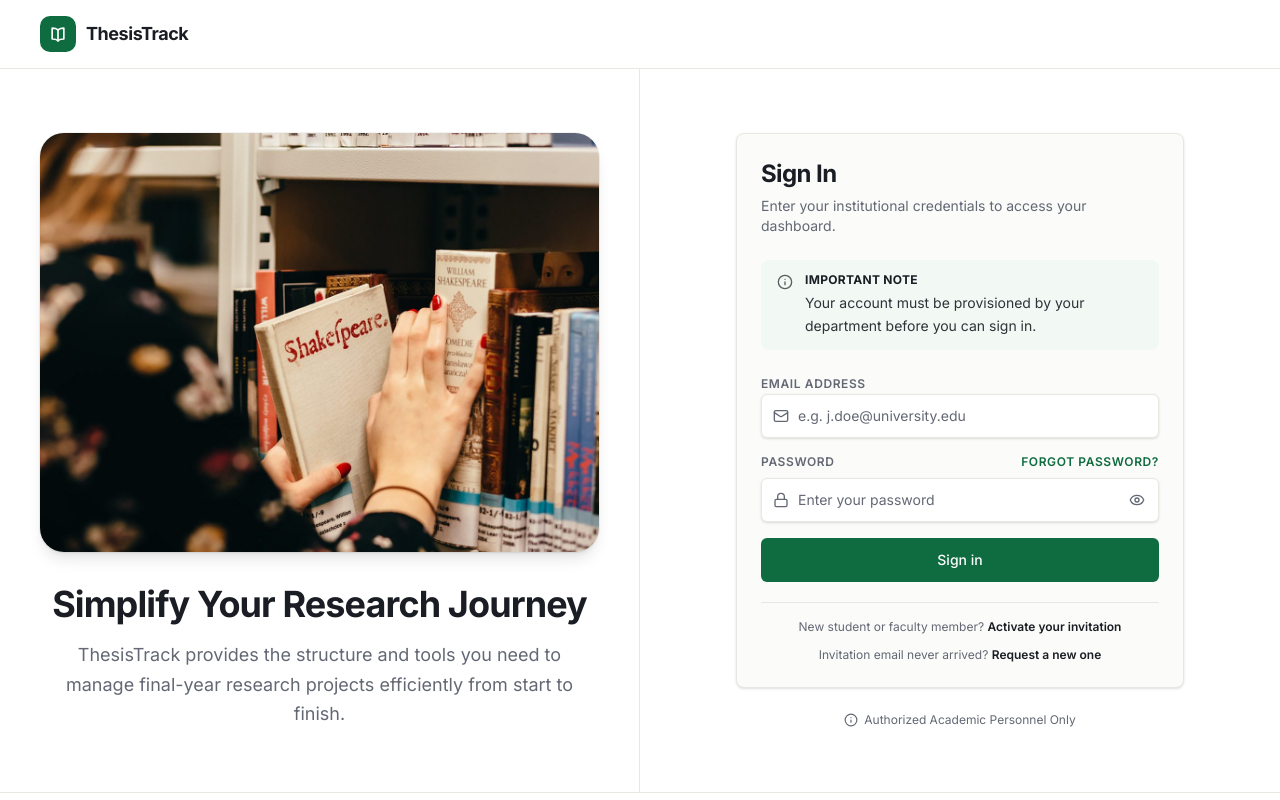
Scenario: login (plan 4.1) › renders the danger callout inline on 401 without redirecting
The width and height of the screenshot is (1280, 800).
Type "benjamin.thompson@university.edu" into the field labelled "Email address". click: (960, 416)
box: [761, 394, 1159, 438]
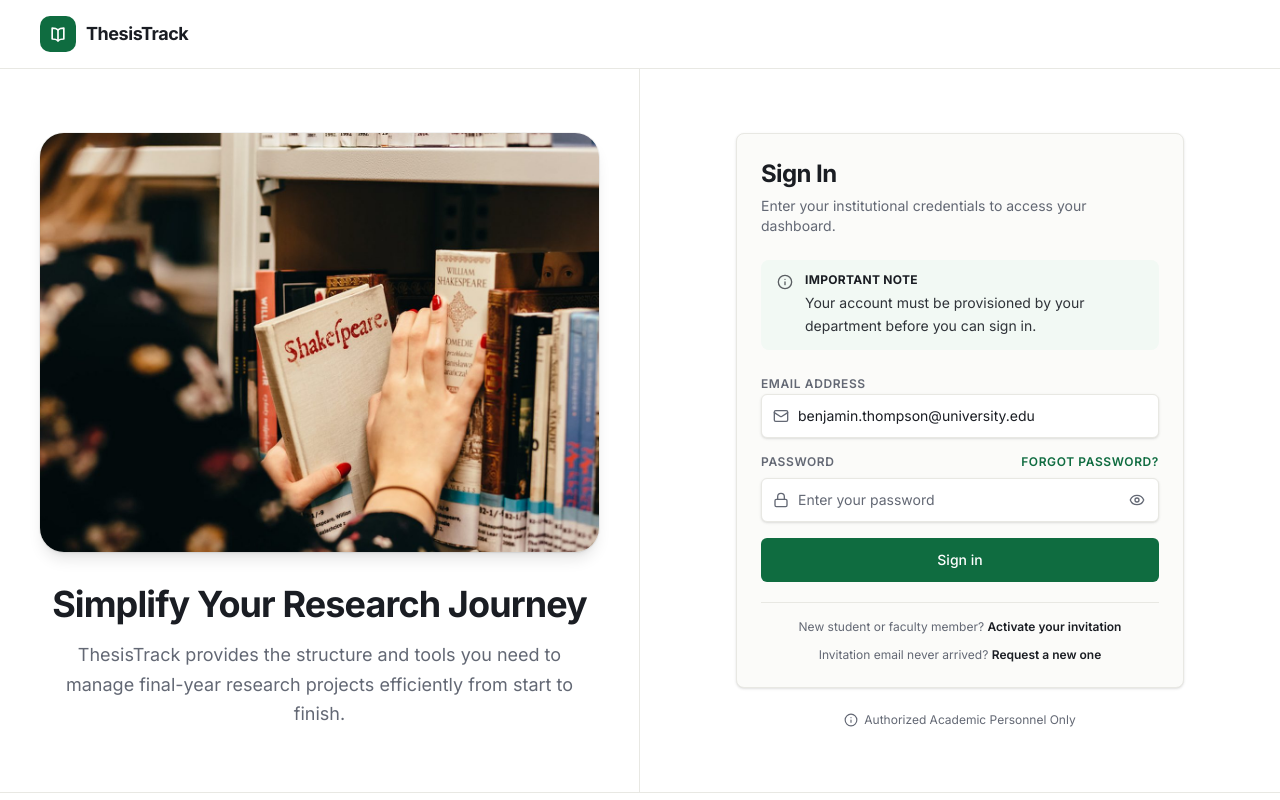
Type "S3cretPass!" into the password field labelled "Password". click: (960, 500)
box: [761, 478, 1159, 522]
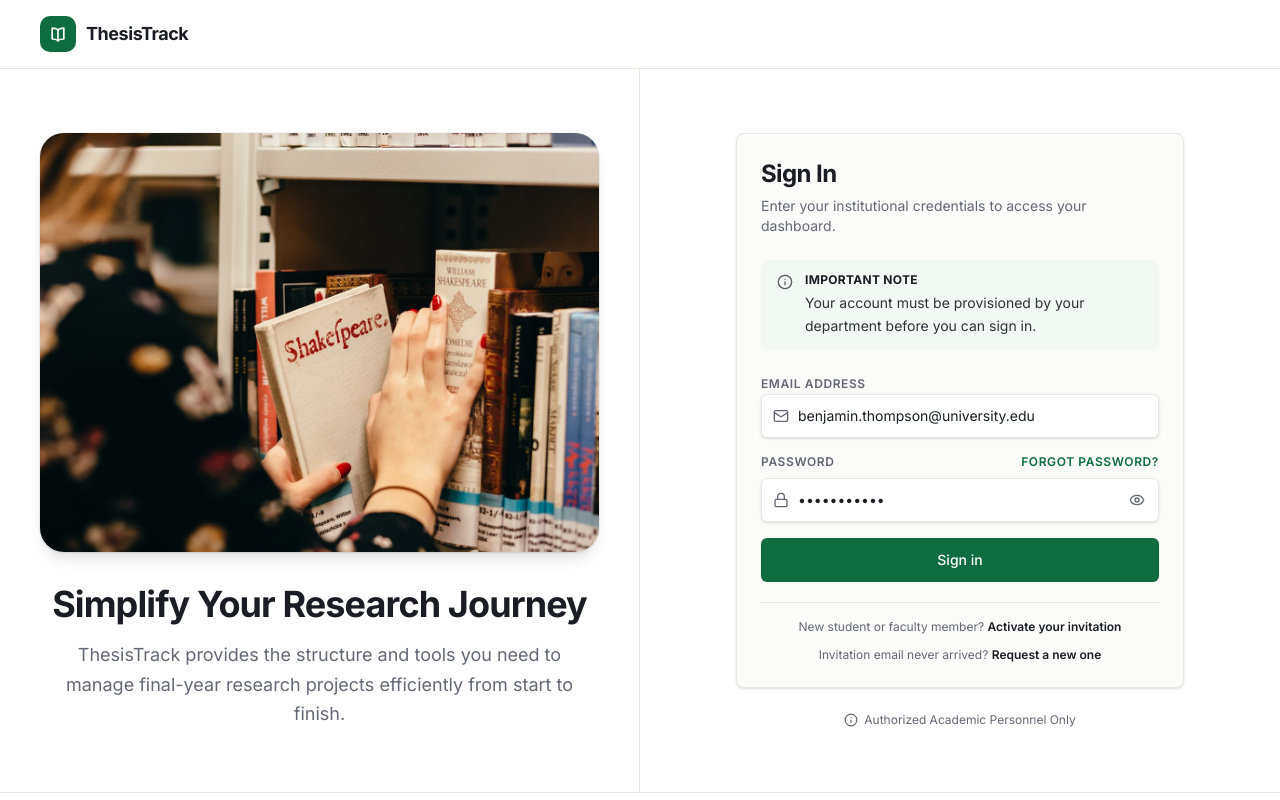
Click the button "Sign in". click: (960, 560)
box: [761, 538, 1159, 582]
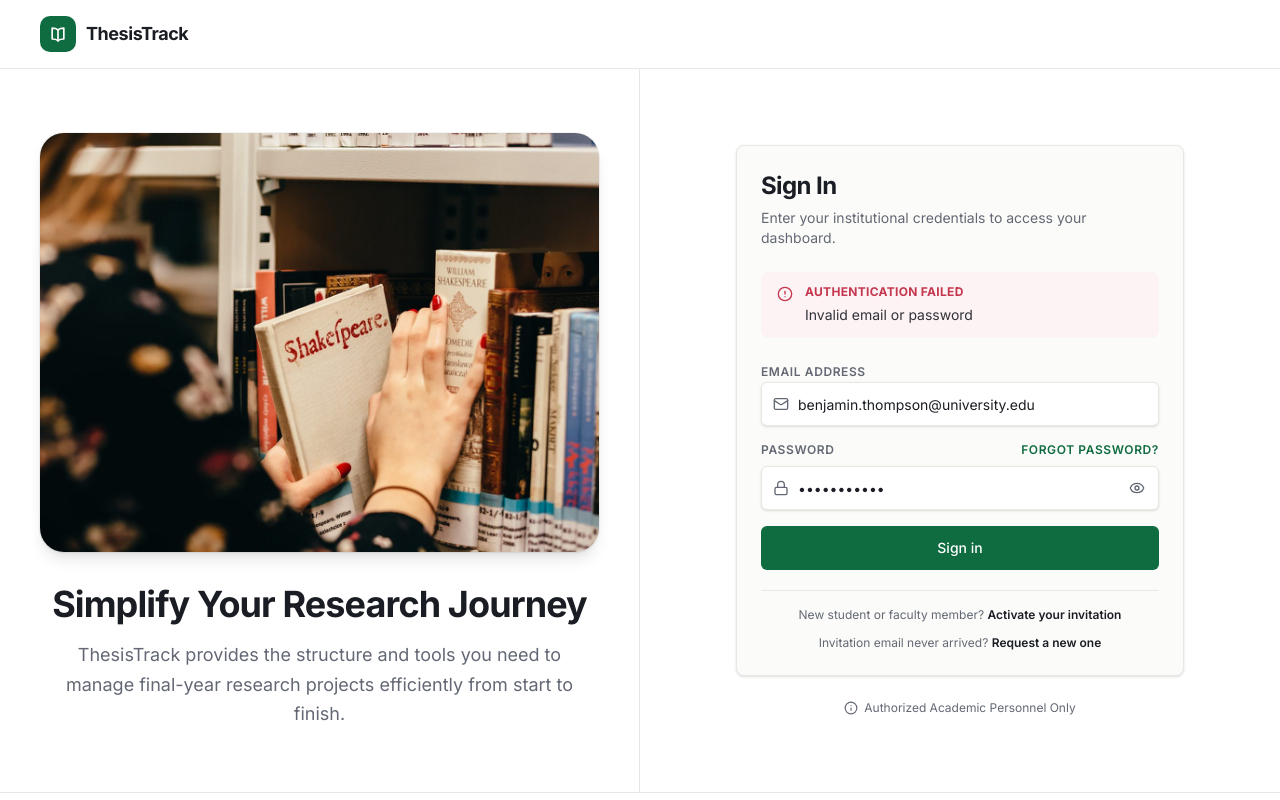
Now the text "Invalid email or password" is shown, box [805, 304, 973, 326]
Now the text "Authentication failed" is shown, box [805, 284, 973, 300]
